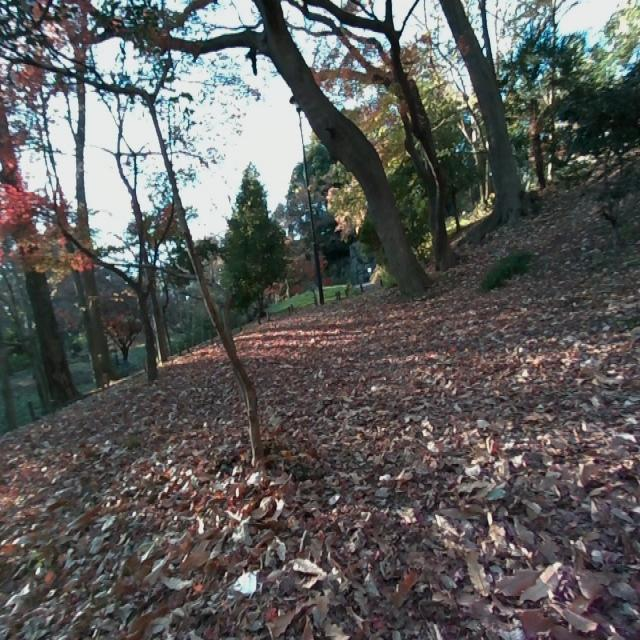bush: (558, 67, 640, 203)
tree: (204, 0, 439, 311), (116, 20, 274, 464), (316, 0, 469, 261), (0, 0, 77, 411), (62, 128, 181, 376), (430, 0, 548, 220)
